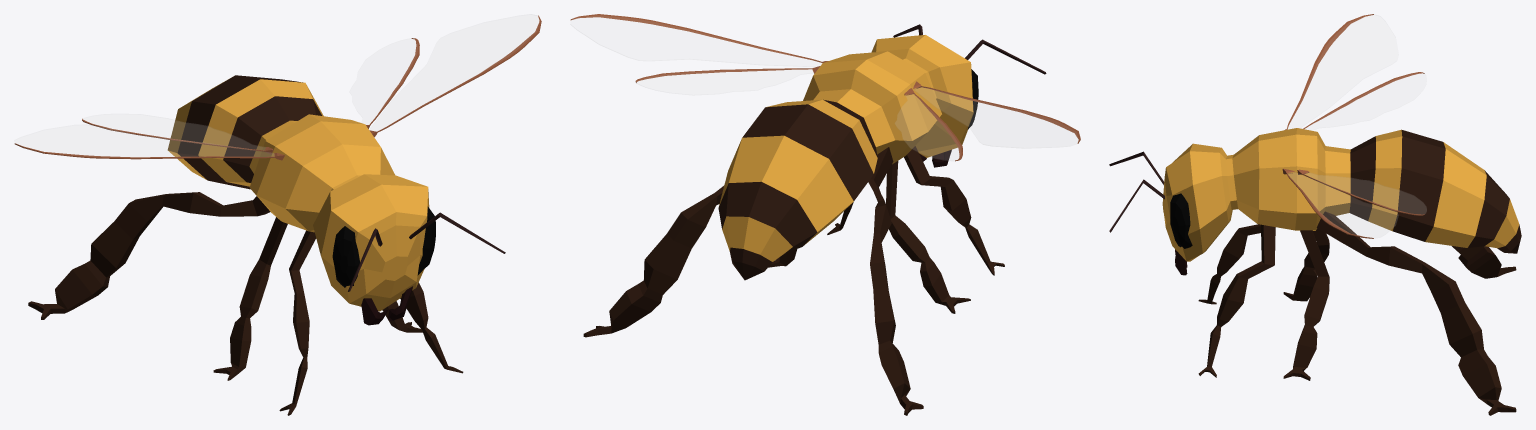
The model's file is abeille.fbx.
3 views of the same model, side by side, from view 1: azimuth 30°, elevation 25°; view 2: azimuth 150°, elevation 25°; view 3: azimuth 270°, elevation 25° (orthographic). The views are drawn at different scales.
Parts seen in each view (by area): view 1: Corps, Ailes, Pattes, Yeux, Mandibulles, Antennes; view 2: Corps, Ailes, Pattes, Antennes; view 3: Corps, Pattes, Ailes, Yeux, Antennes.
Boxes of the visible parts, x1,y1,x2,y2 form: Corps: (167, 75, 429, 311); Ailes: (14, 14, 541, 160); Pattes: (28, 192, 463, 415); Yeux: (332, 206, 435, 287); Mandibulles: (361, 286, 412, 325); Antennes: (348, 212, 505, 291); Corps: (718, 35, 973, 280); Ailes: (570, 14, 1080, 161); Pattes: (583, 146, 1004, 415); Antennes: (893, 24, 1046, 74); Corps: (1162, 128, 1521, 261); Pattes: (1198, 211, 1516, 415); Ailes: (1282, 14, 1426, 238); Yeux: (1170, 193, 1192, 248); Antennes: (1109, 151, 1164, 232).
Size of the model in its own units: 2.12 by 0.9596 by 1.65.
